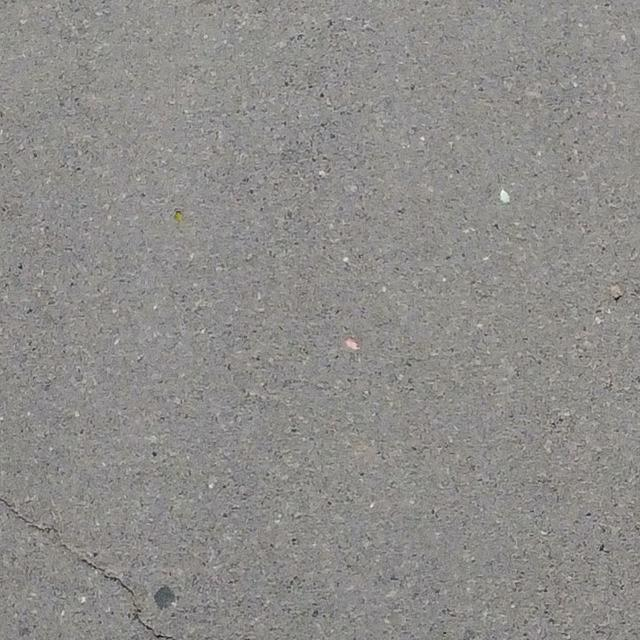TransverseCrack: (1, 498, 174, 640)
